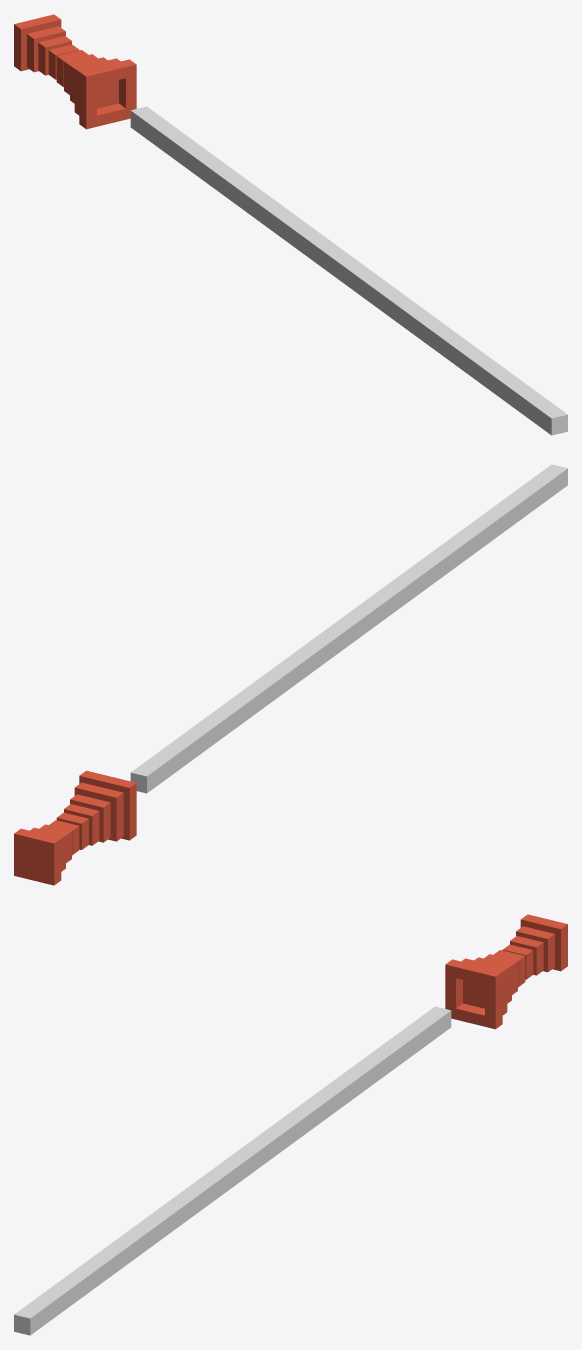
The model's file is Cubism.fbx.
3 views of the same model, one above another, from view 1: azimuth 30°, elevation 25°; view 2: azimuth 150°, elevation 25°; view 3: azimuth 330°, elevation 25° (orthographic).
Visible parts, largest first — view 1: Blade.001, 9.001, 1.001, 8.001, 2.001, 3.001; view 2: Blade.001, 1.001, 9.001, 8.001, 7.001, 6.001; view 3: Blade.001, 9.001, 1.001, 8.001, 2.001, 3.001.
Part boxes in pixels (x1,y1,x2,y2): Blade.001: (130,106,567,435); 9.001: (79,59,136,129); 1.001: (14,14,61,71); 8.001: (74,58,120,115); 2.001: (27,26,65,72); 3.001: (38,36,71,75); Blade.001: (130,464,567,793); 1.001: (14,828,61,885); 9.001: (79,770,136,840); 8.001: (74,782,123,841); 7.001: (70,794,110,842); 6.001: (64,804,99,845); Blade.001: (14,1006,451,1335); 9.001: (445,959,502,1029); 1.001: (520,914,567,971); 8.001: (461,958,507,1015); 2.001: (516,926,554,972); 3.001: (510,936,543,975).
Size of the model in its own units: 6.6 by 6.6 by 120.
